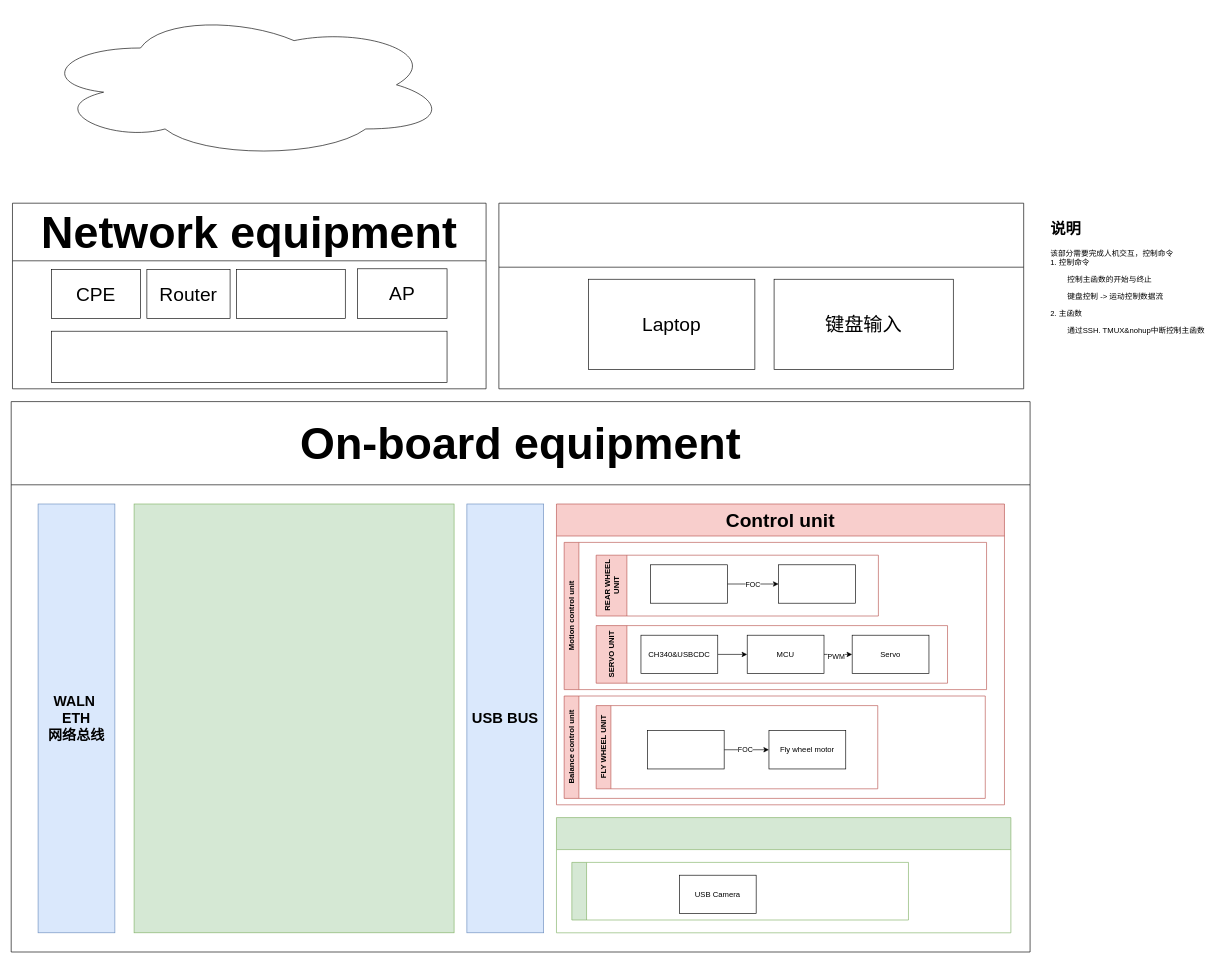
Image size: 1227x963. Some labels were removed from this diagram. Here are the shapes that lost their labels. From the top down, the box of each, then its label:
(37, 11, 448, 158): 5G 4G 基站
(236, 269, 345, 318): POE交换机
(498, 203, 1024, 389): operating equipment
(51, 331, 447, 382): NVIDIA GTX 3080 Calculation Unit
(650, 564, 727, 603): Odrive 1
(778, 564, 855, 603): Rear wheel motor
(133, 503, 454, 933): Jetson TX2 NX
(647, 730, 724, 769): Odrive 0
(571, 862, 908, 920): CAMERA UNIT
(556, 817, 1011, 933): Calculation Unit
